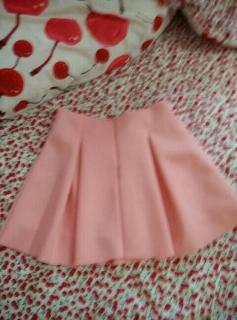skirt: (0, 101, 237, 267)
